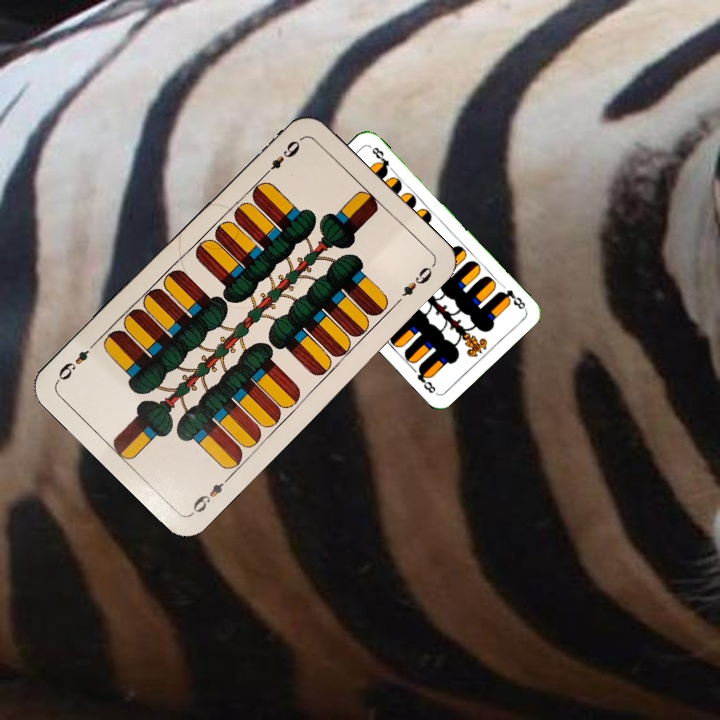E8: (495, 286, 528, 312)
E9: (259, 133, 305, 180), (187, 471, 234, 517)
